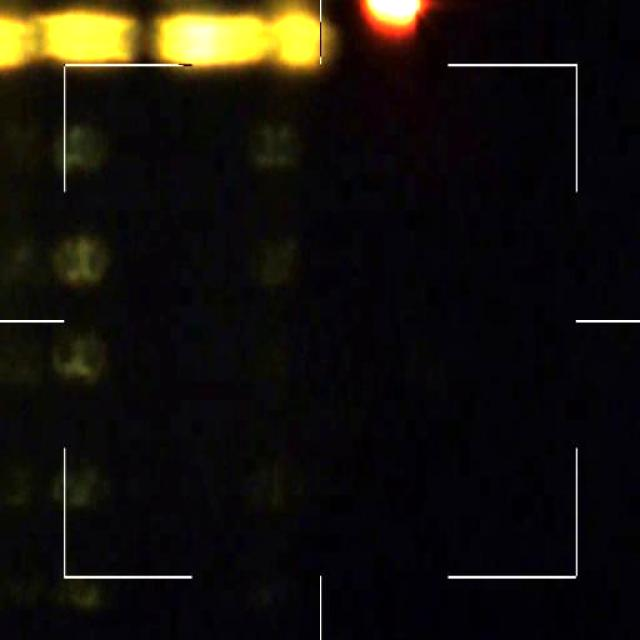bird: (359, 0, 425, 35)
